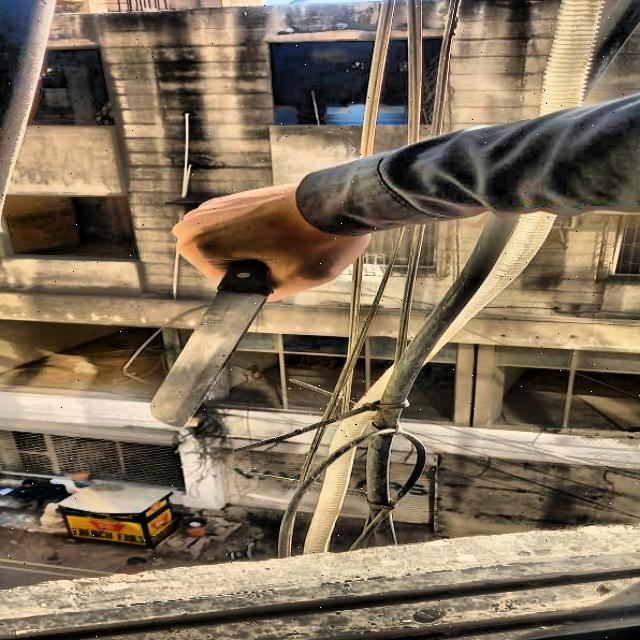knife: (149, 261, 273, 426)
